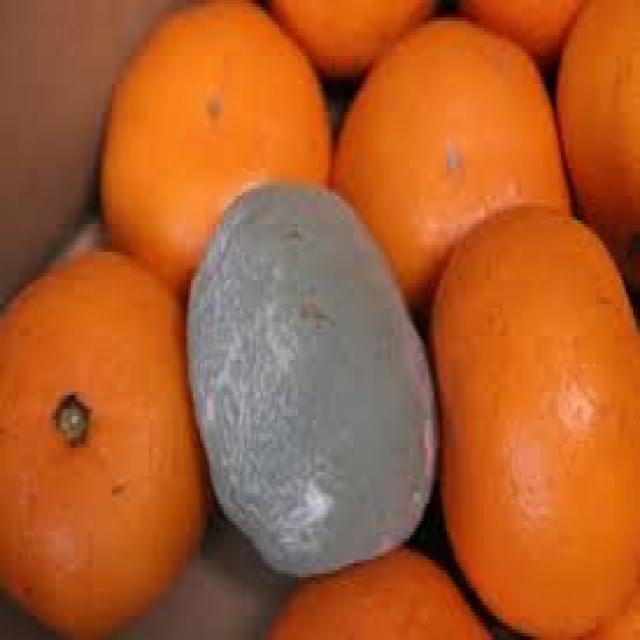organic waste: (184, 182, 433, 580), (428, 199, 638, 636), (0, 242, 212, 636), (331, 14, 570, 315), (93, 0, 330, 290), (554, 0, 638, 297), (261, 542, 488, 637), (265, 0, 432, 73), (456, 0, 589, 56), (598, 580, 638, 636)
